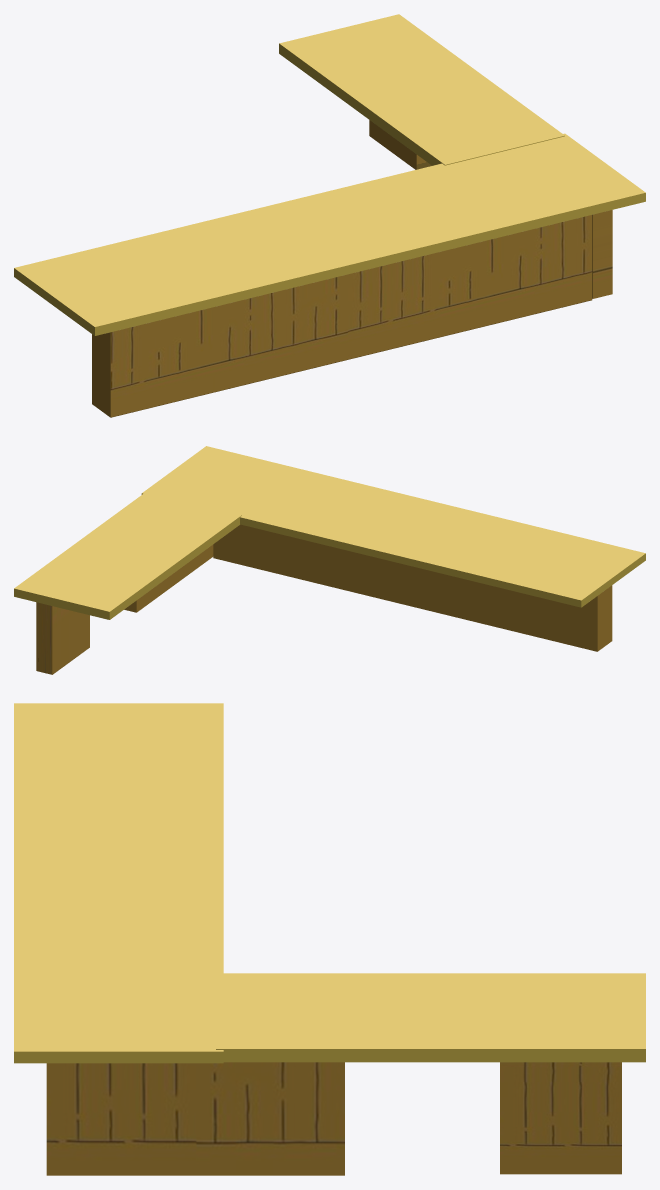
The model's file is barra2.obj.
The picture shows the model from 3 angles, top to bottom: view 1: azimuth 30°, elevation 25°; view 2: azimuth 150°, elevation 25°; view 3: azimuth 270°, elevation 25°; orthographic projection. The views are drawn at different scales.
Visible parts, largest first — view 1: pasted__pasted__polySurface3; view 2: pasted__pasted__polySurface3; view 3: pasted__pasted__polySurface3.
Boxes of the visible parts, x1,y1,x2,y2 form: pasted__pasted__polySurface3: [14, 14, 645, 417]; pasted__pasted__polySurface3: [14, 446, 645, 674]; pasted__pasted__polySurface3: [14, 703, 645, 1175].
Bounding box in the file's own units: 6.75 × 1.27 × 5.18.
15 materials, 14 textured.
